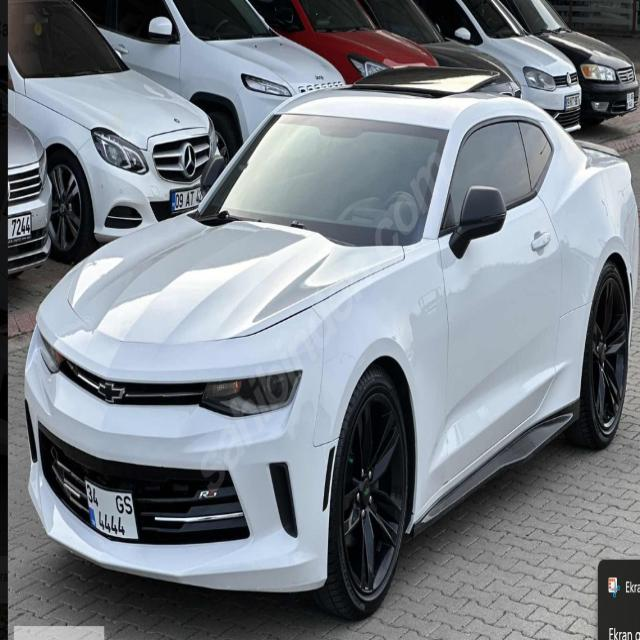chevrolet: (98, 373, 126, 410)
